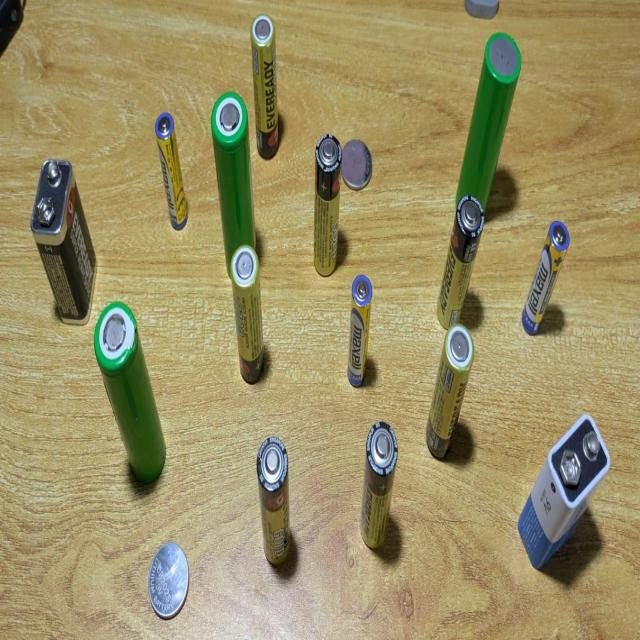9V: (516, 412, 610, 571), (30, 156, 96, 324)
AA: (437, 192, 485, 332), (428, 317, 475, 458), (230, 241, 265, 383), (359, 422, 397, 552), (256, 434, 292, 567), (249, 11, 279, 161), (313, 131, 342, 276)
AAA: (522, 218, 570, 337), (154, 110, 188, 232), (347, 274, 373, 389)
COIN: (147, 540, 190, 620), (340, 139, 372, 190)
